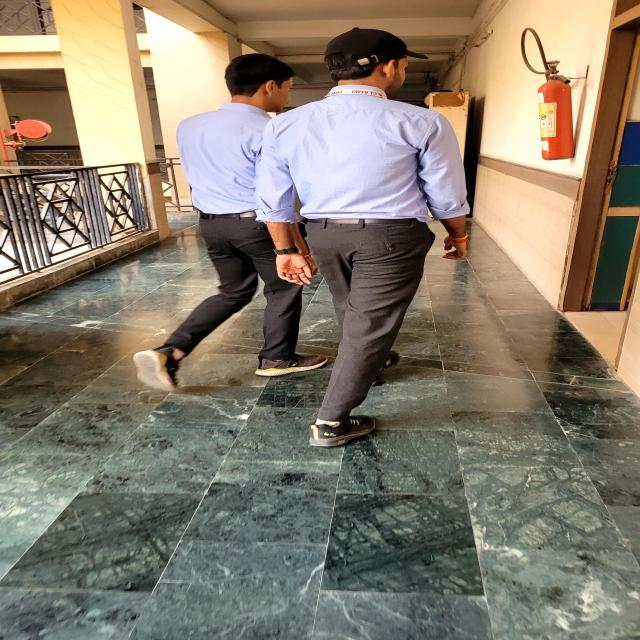unsafe: (292, 26, 475, 447), (134, 49, 321, 378)
